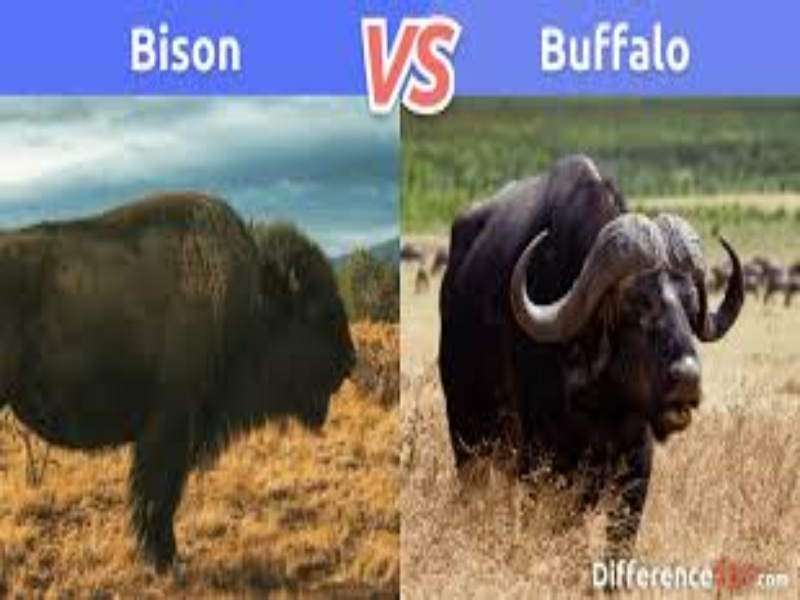buffalo: (436, 153, 754, 529)
